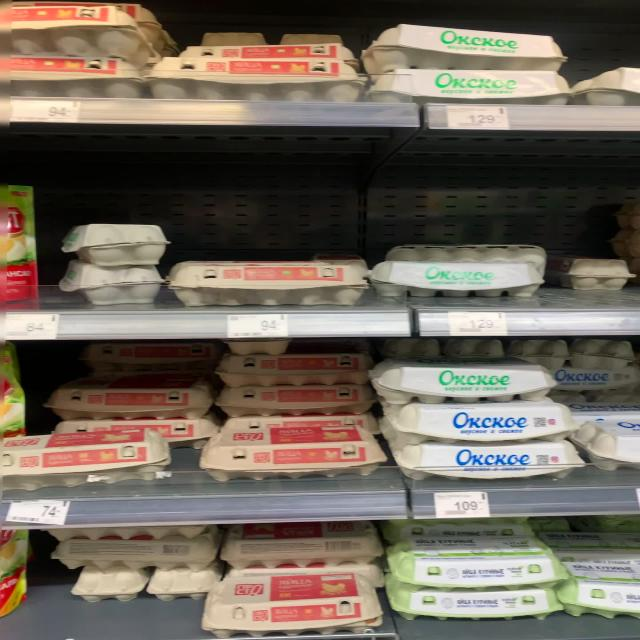egg box: (389, 429, 591, 486), (188, 423, 384, 481), (204, 567, 384, 630), (377, 390, 584, 442), (153, 43, 366, 93), (162, 254, 369, 304), (366, 20, 564, 71), (358, 245, 550, 297), (380, 574, 560, 624), (364, 357, 560, 400), (2, 436, 180, 481), (373, 64, 574, 100), (50, 378, 216, 419), (52, 404, 218, 444), (210, 376, 372, 415), (396, 548, 556, 585), (206, 411, 371, 444), (213, 353, 359, 386)
